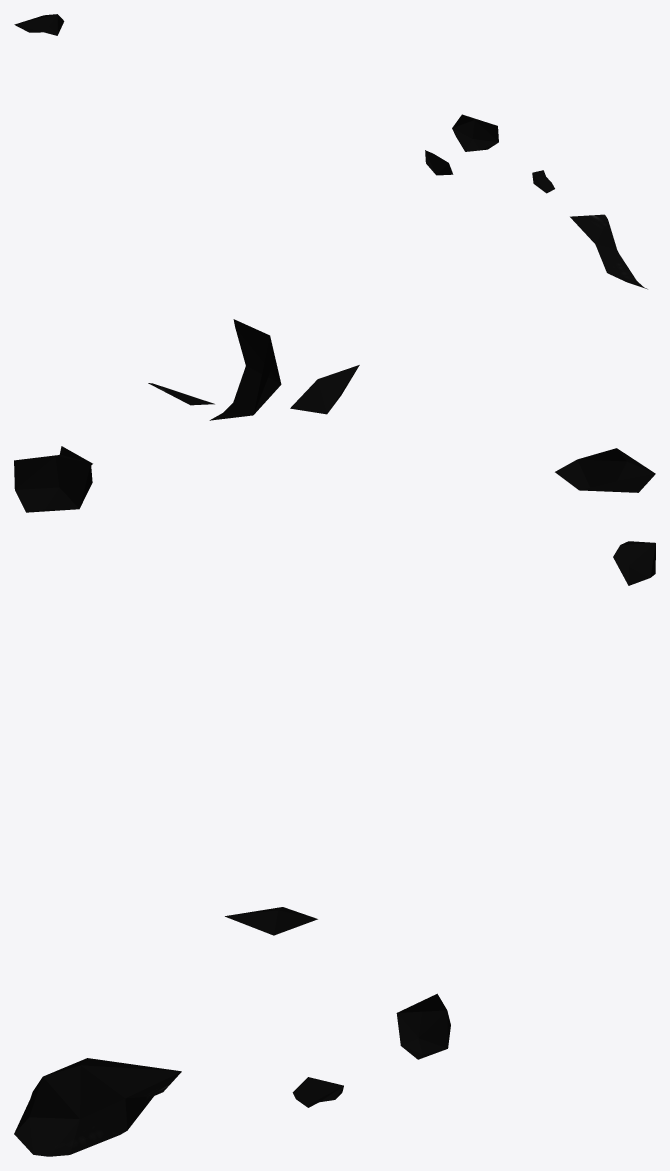
The picture shows the model from 3 angles, top to bottom: view 1: azimuth 30°, elevation 25°; view 2: azimuth 150°, elevation 25°; view 3: azimuth 270°, elevation 25°; orthographic projection. The views are drawn at different scales.
Size of the model in its own units: 1.18 by 0.5982 by 1.06.
1 material, 1 textured.
